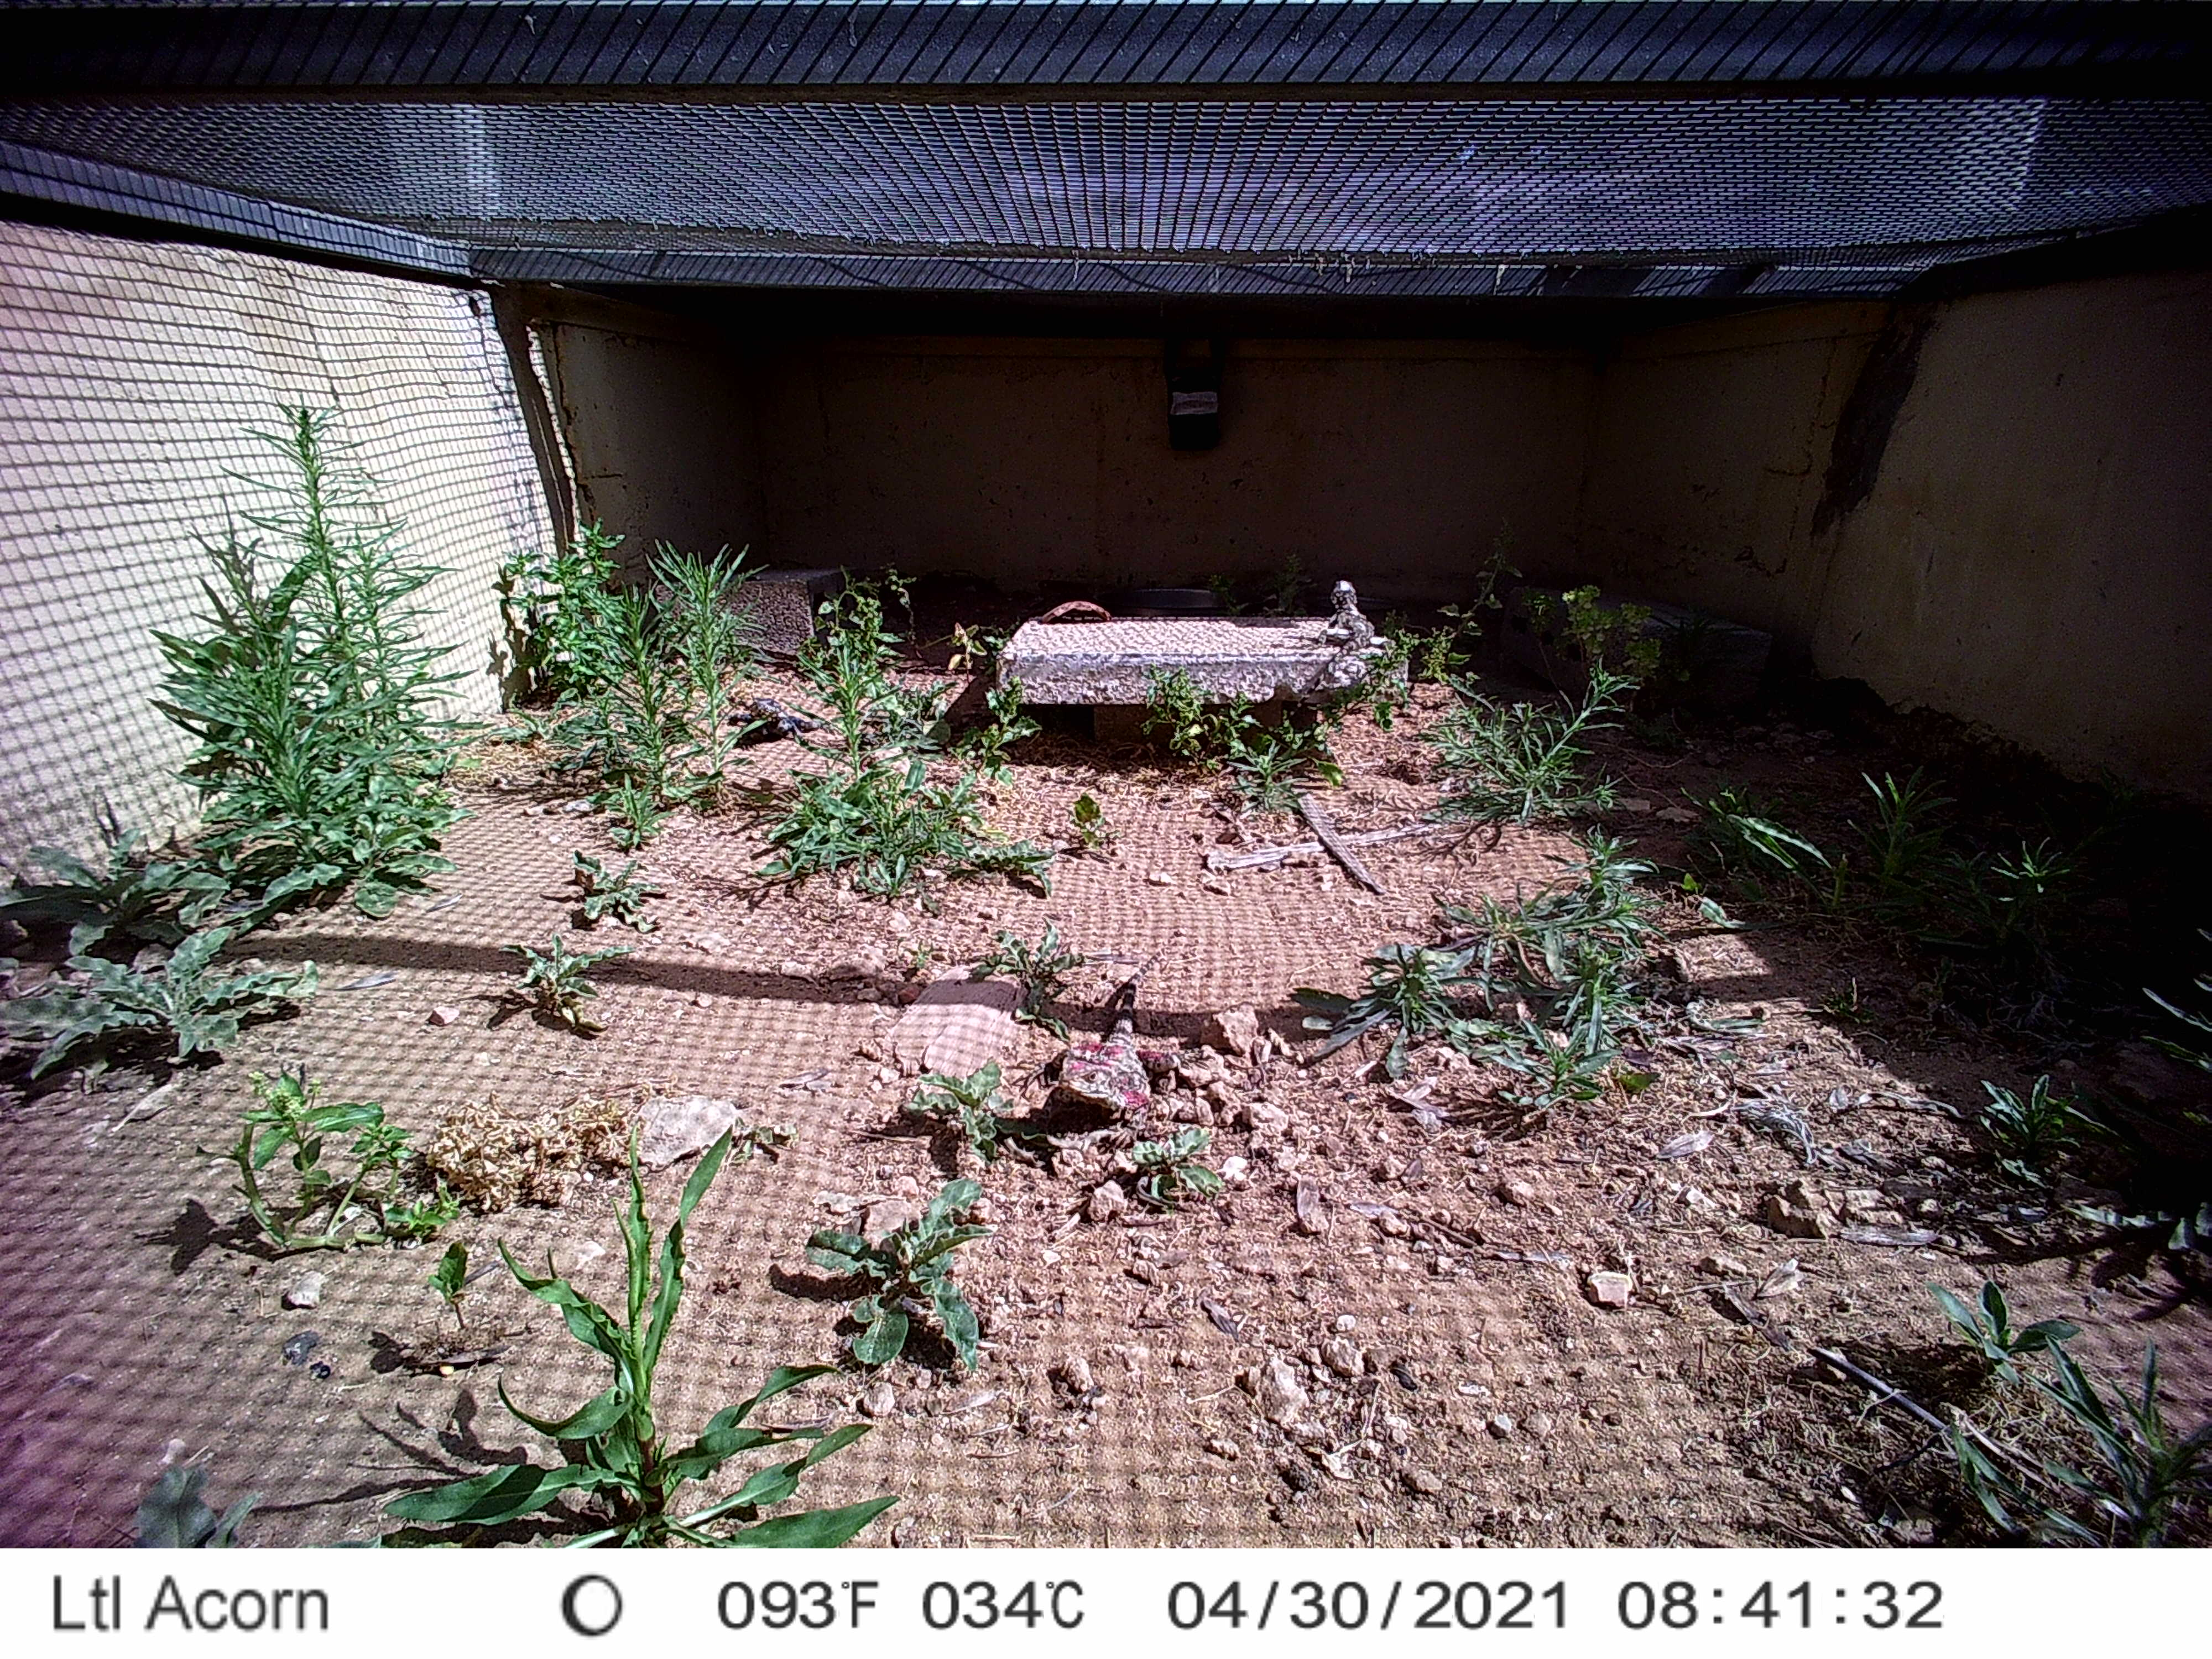lizard: (1271, 572, 1388, 708), (728, 694, 840, 746)
